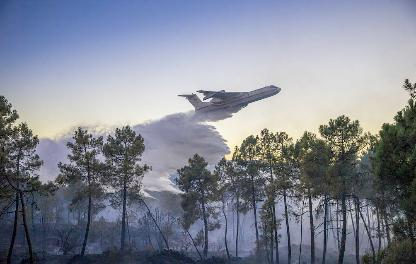B52: (176, 84, 280, 113)
